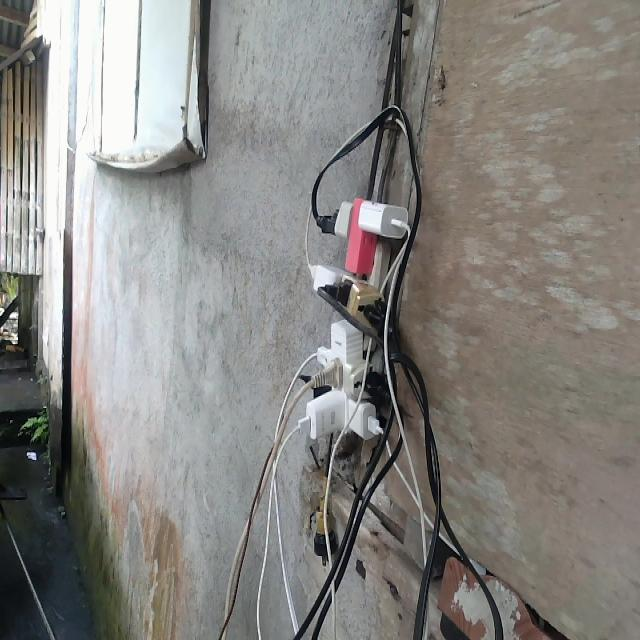-: (305, 188, 406, 440)
